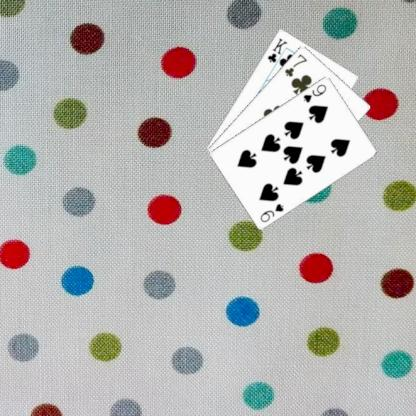7C: (282, 51, 309, 78)
9S: (300, 81, 328, 104), (258, 201, 285, 223)
KC: (264, 35, 288, 69)
